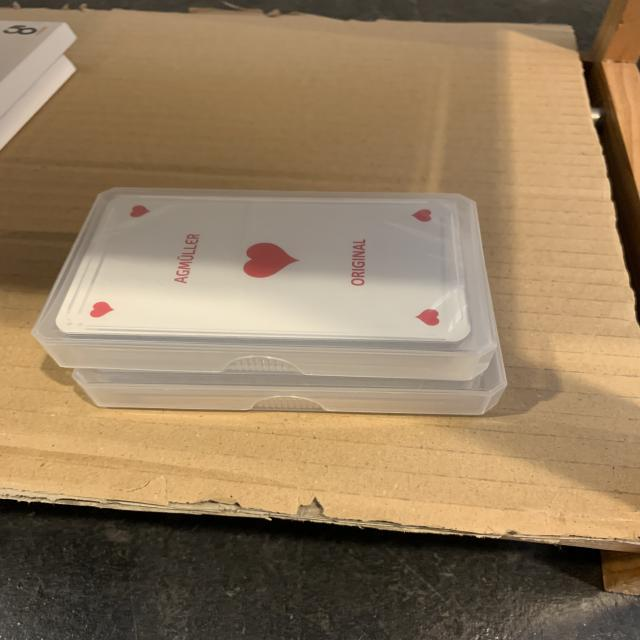Jasskarte: (33, 188, 498, 381), (72, 347, 506, 416)
